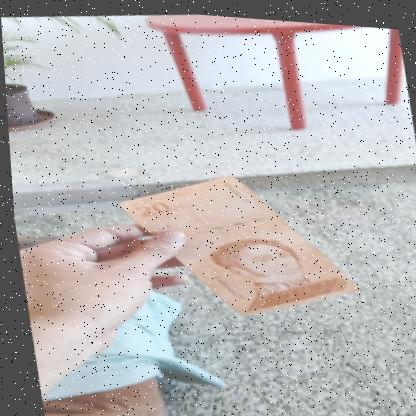twenty-front-vef: (112, 154, 362, 330)
